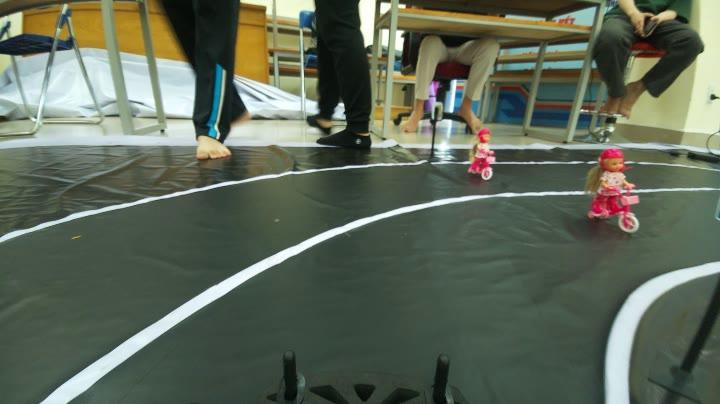pedestrian: (586, 148, 640, 230), (466, 127, 498, 176)
